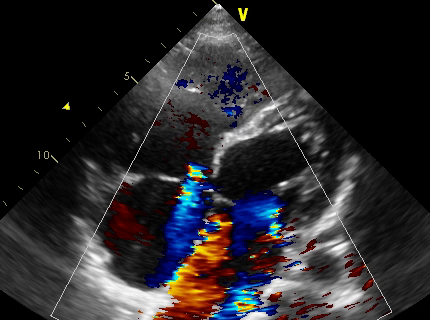TR: (124, 163, 210, 224)
